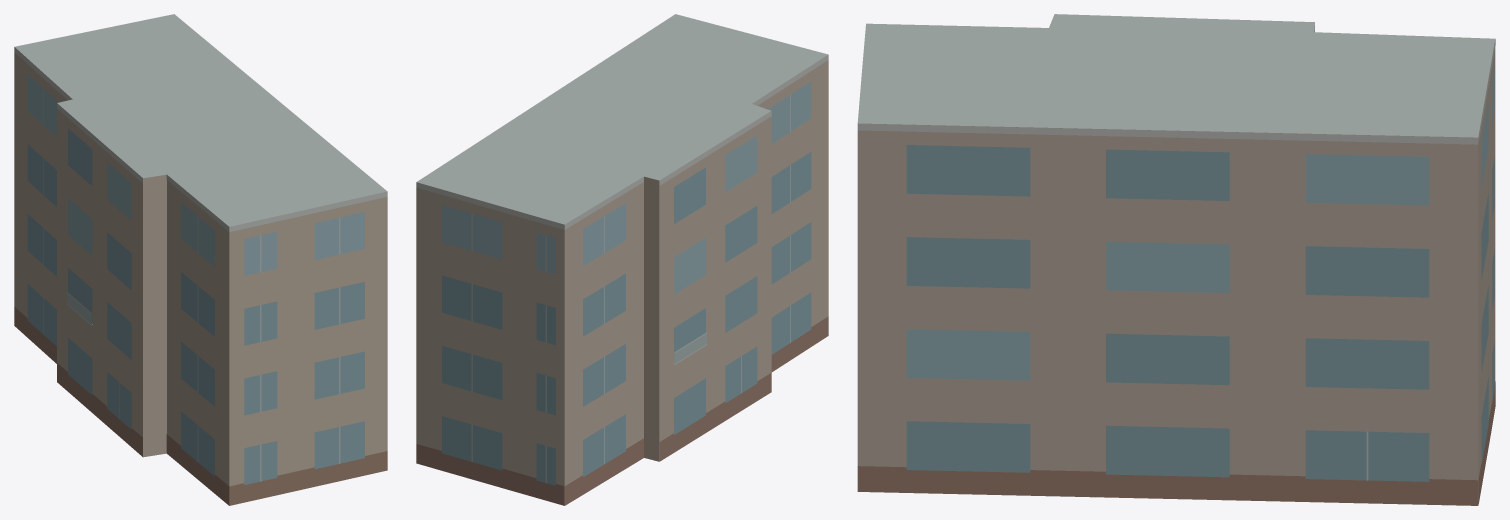
The model's file is survey-upis-32670679.glb.
3 renders of one model, left to right at view 1: azimuth 30°, elevation 25°; view 2: azimuth 150°, elevation 25°; view 3: azimuth 270°, elevation 25°, orthographic. The views are drawn at different scales.
Parts seen in each view (by area): view 1: survey-upis-32670679.tmp; view 2: survey-upis-32670679.tmp; view 3: survey-upis-32670679.tmp.
Part boxes in pixels (x1,y1,x2,y2): survey-upis-32670679.tmp: [14, 14, 387, 505]; survey-upis-32670679.tmp: [416, 14, 828, 505]; survey-upis-32670679.tmp: [857, 14, 1495, 505].
Bounding box in the file's own units: 9.22 × 12.8 × 20.1.
